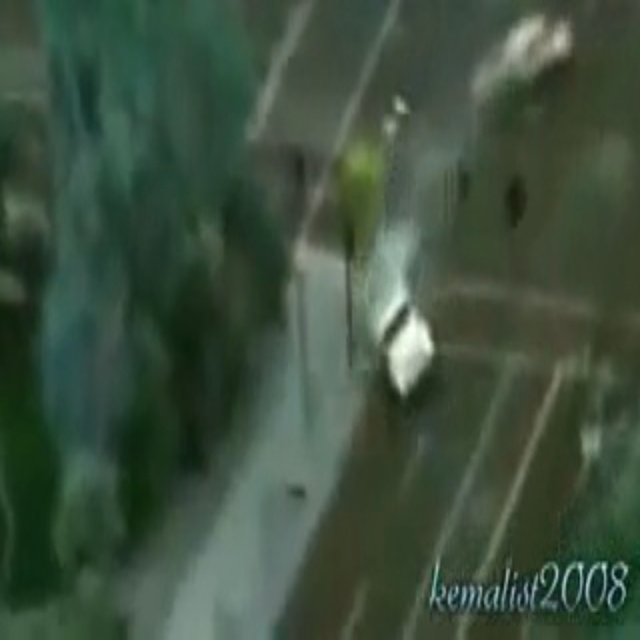acc: (334, 18, 577, 400)
